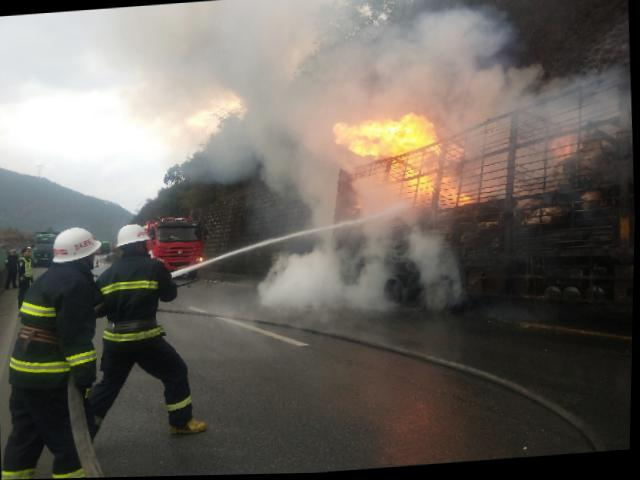fire: (332, 111, 473, 218)
